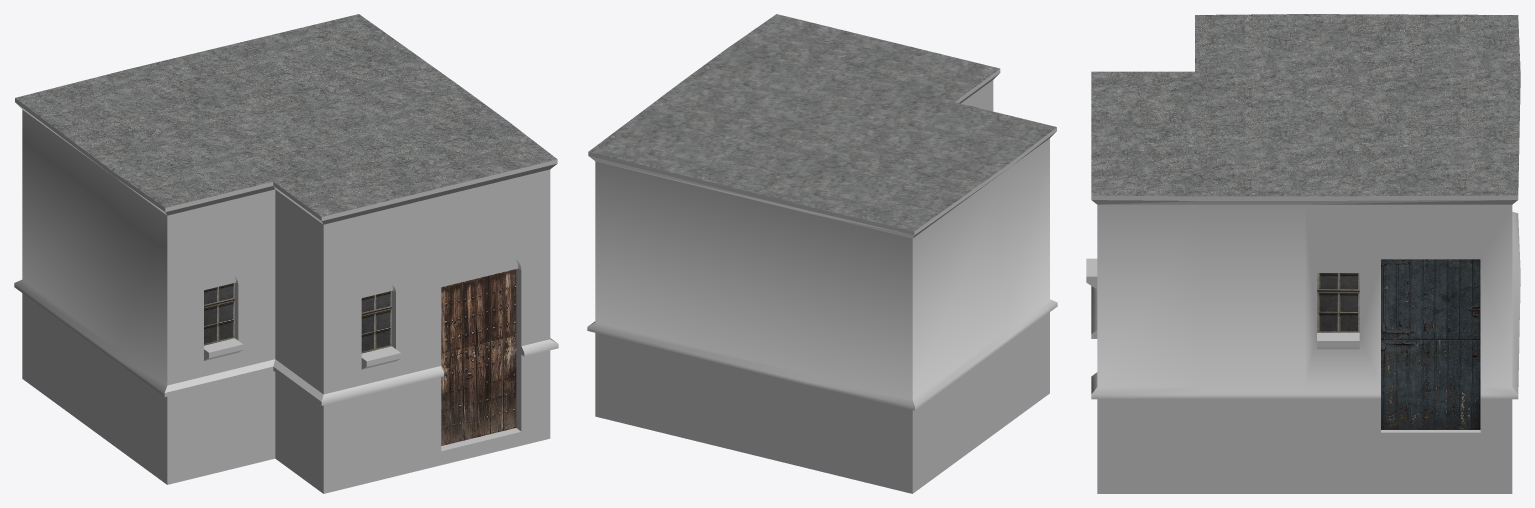
Rendered from Building_Base_00.fbx.
3 views of the same model, side by side, from view 1: azimuth 30°, elevation 25°; view 2: azimuth 150°, elevation 25°; view 3: azimuth 270°, elevation 25° (orthographic). The views are drawn at different scales.
Visible parts, largest first — view 1: Building_Base_00; view 2: Building_Base_00; view 3: Building_Base_00.
Boxes of the visible parts, x1,y1,x2,y2 form: Building_Base_00: (14, 14, 558, 493); Building_Base_00: (587, 14, 1057, 493); Building_Base_00: (1086, 14, 1520, 493).
Bounding box in the file's own units: 523 × 400 × 523.
